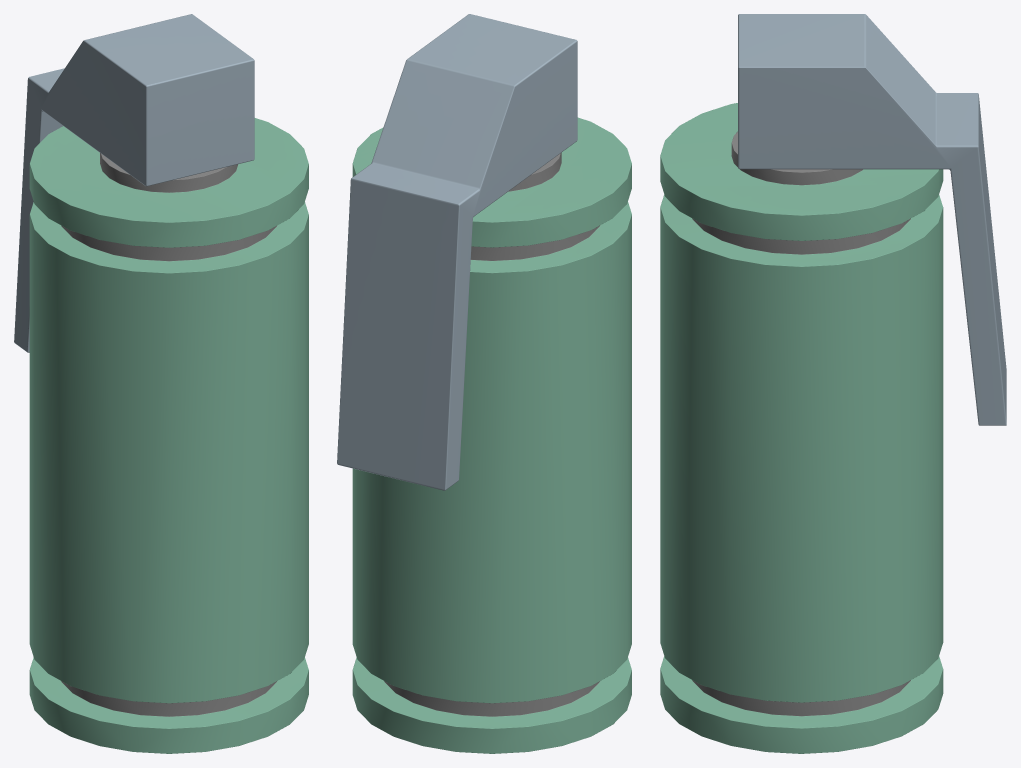
Rendered from grenadeSmoke.glb.
3 views of the same model, side by side, from view 1: azimuth 30°, elevation 25°; view 2: azimuth 150°, elevation 25°; view 3: azimuth 270°, elevation 25° (orthographic).
Parts seen in each view (by area): view 1: grenadeSmoke, grip; view 2: grenadeSmoke, grip; view 3: grenadeSmoke, grip.
Part boxes in pixels (x1,y1,x2,y2): grenadeSmoke: (29, 118, 308, 753); grip: (14, 14, 254, 352); grenadeSmoke: (352, 117, 631, 753); grip: (337, 14, 577, 490); grenadeSmoke: (660, 103, 943, 753); grip: (738, 14, 1006, 425).
Size of the model in its own units: 0.0766 by 0.1952 by 0.0938.
